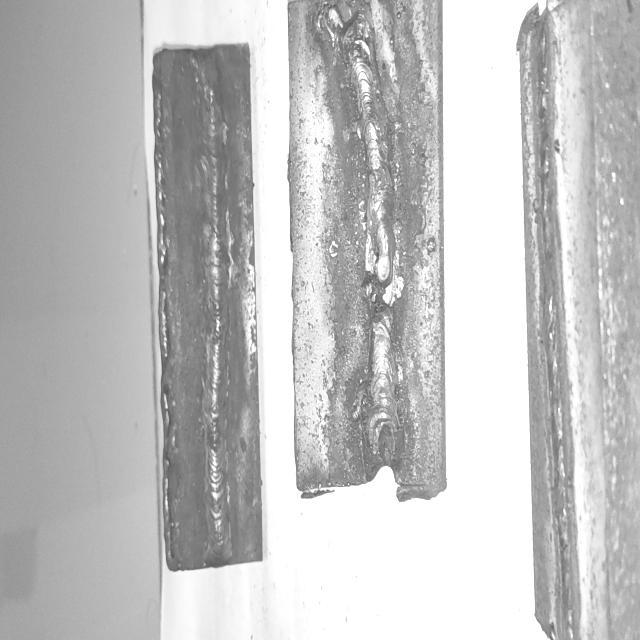Defect: (354, 250, 406, 337), (310, 7, 392, 58)
Welding Line: (320, 4, 400, 453), (536, 27, 572, 630), (202, 80, 230, 555)
Workpiece: (516, 4, 640, 640), (290, 0, 446, 503), (150, 39, 266, 569)
